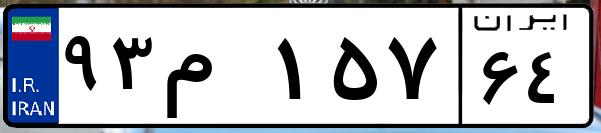1: (270, 28, 330, 110)
3: (110, 28, 158, 98)
4: (525, 38, 570, 115)
5: (330, 28, 385, 110)
6: (475, 38, 525, 113)
7: (385, 28, 445, 110)
9: (57, 26, 110, 100)
م: (158, 20, 270, 120)
